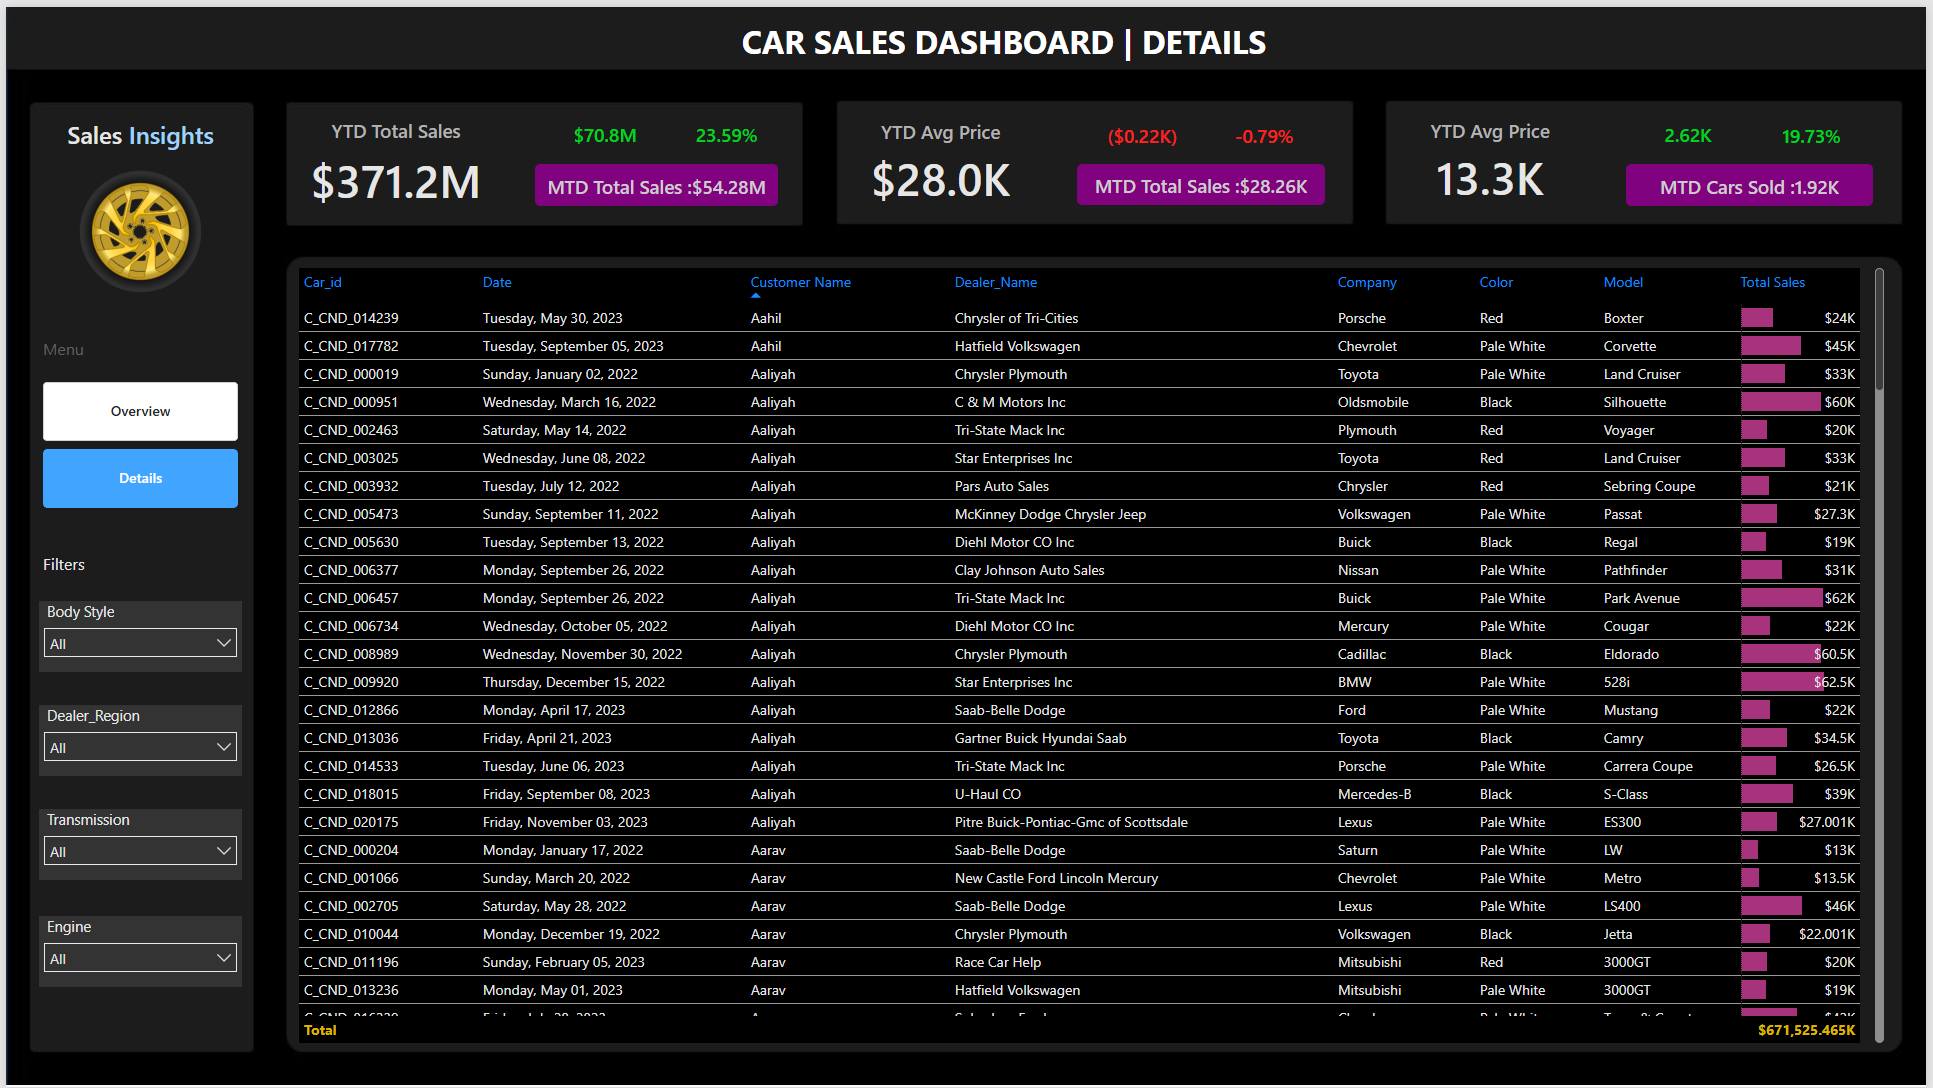

This screenshot's page, from the dashboard's own definition file:
{"tool":"powerbi","page":{"name":"Details","canvas":[1920,1080],"ordinal":1},"visuals":[{"type":"cardVisual","title":"YTD Total Sales","fields":{"Data":["car_data.YTD Total Sales"]},"box":[286.3,97.7,209.5,121.7],"z":0},{"type":"cardVisual","fields":{"Data":["car_data.Sales Difference"]},"box":[547.7,114.8,102.1,23.6],"z":1000},{"type":"cardVisual","fields":{"Data":["car_data.YoY Sales Growth"]},"box":[669.4,114.8,102.1,23.6],"z":2000},{"type":"cardVisual","fields":{"Data":["car_data.MTD KPI"]},"box":[529,157.1,243.4,42],"z":3000},{"type":"cardVisual","title":"YTD Avg Price","fields":{"Data":["car_data.YTD Avg Price"]},"box":[830.8,98.7,209.5,115.7],"z":4000},{"type":"cardVisual","fields":{"Data":["car_data.Avg Price Diff"]},"box":[1085.2,114.7,101.7,23.9],"z":5000},{"type":"cardVisual","fields":{"Data":["car_data.YoY Avg Price Growth"]},"box":[1206.9,114.7,101.7,23.9],"z":6000},{"type":"cardVisual","fields":{"Data":["car_data.MTD Avg Price KPI"]},"box":[1071.2,156.6,247.4,41.9],"z":7000},{"type":"cardVisual","title":"YTD Avg Price","fields":{"Data":["car_data.YTD Cars Sales"]},"box":[1380.4,97.7,209.5,115.7],"z":8000},{"type":"cardVisual","fields":{"Data":["car_data.Cars Sold Diff"]},"box":[1630.5,113.7,102.1,24.2],"z":9000},{"type":"cardVisual","fields":{"Data":["car_data.YoY Car Sold Growth"]},"box":[1754.7,114.7,101.1,24.2],"z":10000},{"type":"cardVisual","fields":{"Data":["car_data.MTD Cars Sold KPI"]},"box":[1620,156.8,247.4,42.1],"z":11000},{"type":"textbox","box":[678.2,12,639.5,47.9],"z":12000},{"type":"slicer","fields":{"Values":["car_data.Body Style"]},"box":[33.2,594.4,202.7,71],"z":13000},{"type":"slicer","fields":{"Values":["car_data.Dealer_Region"]},"box":[33.2,697.6,202.7,71],"z":14000},{"type":"slicer","fields":{"Values":["car_data.Transmission"]},"box":[33.2,801.7,202.7,71],"z":15000},{"type":"slicer","fields":{"Values":["car_data.Engine"]},"box":[33.2,908.6,202.7,71],"z":16000},{"type":"textbox","box":[36.9,546.5,202.7,30.4],"z":17000},{"type":"tableEx","fields":{"Values":["car_data.Car_id","car_data.Date","car_data.Customer Name","car_data.Dealer_Name","car_data.Company","car_data.Color","car_data.Model","Sum(car_data.Price ($))"]},"box":[275.5,247,1618.2,805.4],"z":18000},{"type":"pageNavigator","box":[36.9,375.1,195.4,127.2],"z":18001},{"type":"textbox","box":[56.2,110.6,156.7,46.1],"z":18002},{"type":"textbox","box":[36.9,330.8,58.1,28.6],"z":18003},{"type":"image","box":[56.2,126.2,156.7,197.2],"z":18004}]}

Visuals, with their boxes in screenshot pixels (x1, y1, x2, y2), scaled from the page's 1920x1080 canvas onto the 1933x1088 screenshot:
"YTD Total Sales" cardVisual: pyautogui.locateOnScreen(288, 98, 499, 221)
cardVisual - car_data.Sales Difference: pyautogui.locateOnScreen(551, 116, 654, 139)
cardVisual - car_data.YoY Sales Growth: pyautogui.locateOnScreen(674, 116, 777, 139)
cardVisual - car_data.MTD KPI: pyautogui.locateOnScreen(533, 158, 778, 201)
"YTD Avg Price" cardVisual: pyautogui.locateOnScreen(836, 99, 1047, 216)
cardVisual - car_data.Avg Price Diff: pyautogui.locateOnScreen(1093, 116, 1195, 140)
cardVisual - car_data.YoY Avg Price Growth: pyautogui.locateOnScreen(1215, 116, 1317, 140)
cardVisual - car_data.MTD Avg Price KPI: pyautogui.locateOnScreen(1078, 158, 1328, 200)
"YTD Avg Price" cardVisual: pyautogui.locateOnScreen(1390, 98, 1601, 215)
cardVisual - car_data.Cars Sold Diff: pyautogui.locateOnScreen(1642, 115, 1744, 139)
cardVisual - car_data.YoY Car Sold Growth: pyautogui.locateOnScreen(1767, 116, 1868, 140)
cardVisual - car_data.MTD Cars Sold KPI: pyautogui.locateOnScreen(1631, 158, 1880, 200)
textbox: pyautogui.locateOnScreen(683, 12, 1327, 60)
slicer - car_data.Body Style: pyautogui.locateOnScreen(33, 599, 237, 670)
slicer - car_data.Dealer_Region: pyautogui.locateOnScreen(33, 703, 237, 774)
slicer - car_data.Transmission: pyautogui.locateOnScreen(33, 808, 237, 879)
slicer - car_data.Engine: pyautogui.locateOnScreen(33, 915, 237, 987)
textbox: pyautogui.locateOnScreen(37, 551, 241, 581)
tableEx - car_data.Car_id x car_data.Date: pyautogui.locateOnScreen(277, 249, 1907, 1060)
pageNavigator: pyautogui.locateOnScreen(37, 378, 234, 506)
textbox: pyautogui.locateOnScreen(57, 111, 214, 158)
textbox: pyautogui.locateOnScreen(37, 333, 96, 362)
image: pyautogui.locateOnScreen(57, 127, 214, 326)
